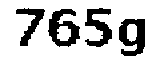5: (84, 7, 114, 51)
6: (45, 7, 80, 54)
7: (15, 4, 46, 50)
g: (117, 16, 151, 60)
